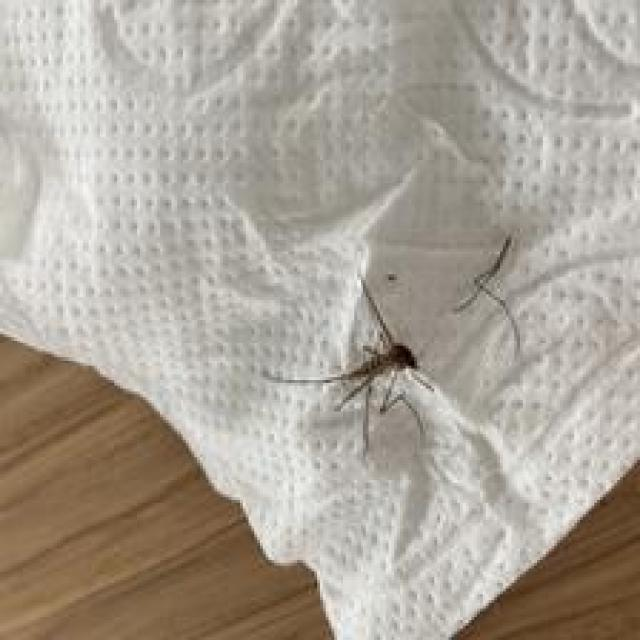Culex: (260, 273, 437, 456)
